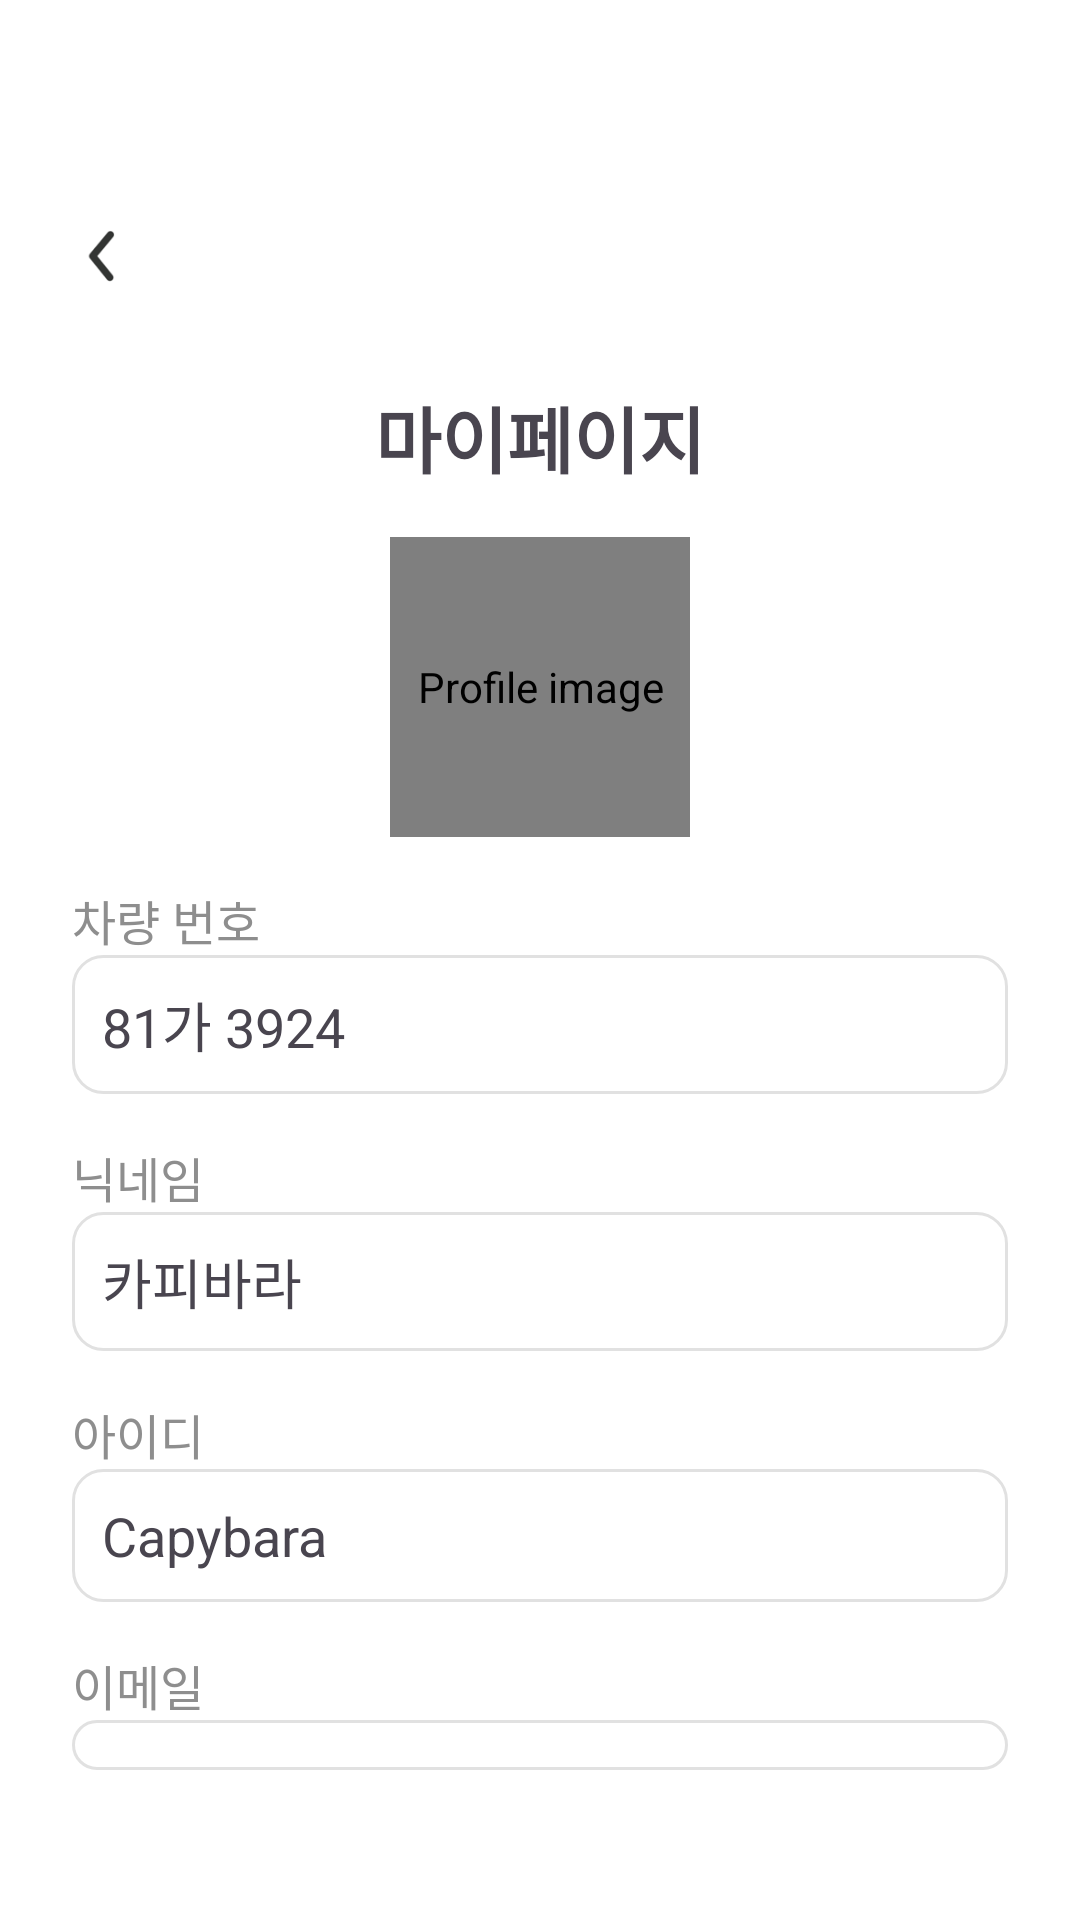

Point at icon controls on the screen. Image size 1080×1920, points as point (x, y).
Back button: point (101, 256)
